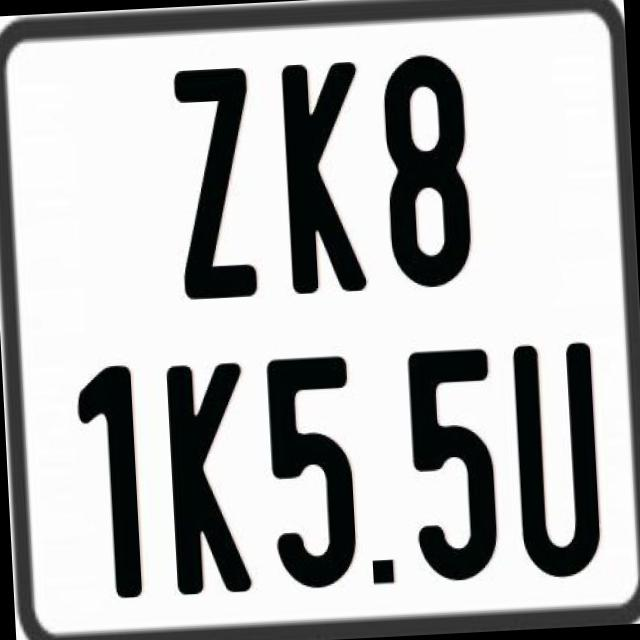1: (74, 362, 148, 606)
5: (262, 355, 358, 593), (406, 343, 500, 579)
8: (380, 48, 474, 286)
K: (278, 60, 368, 302), (165, 362, 256, 600)
U: (508, 342, 606, 580)
Z: (171, 65, 263, 303)
